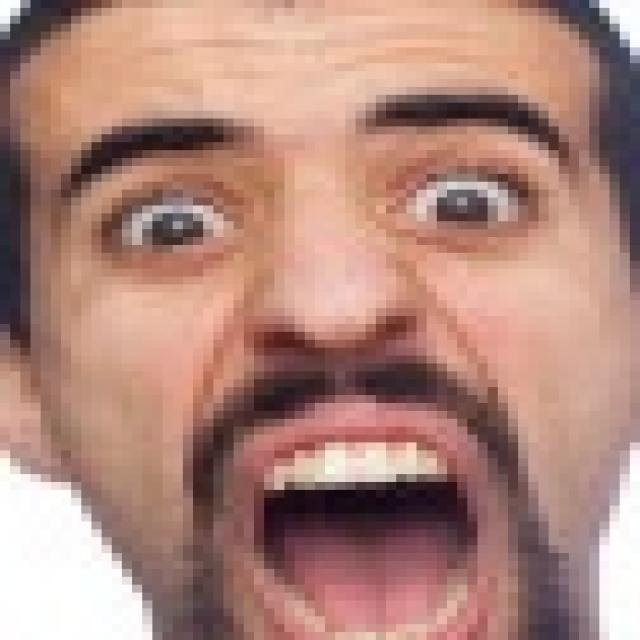Anxiety: (13, 2, 630, 632)
